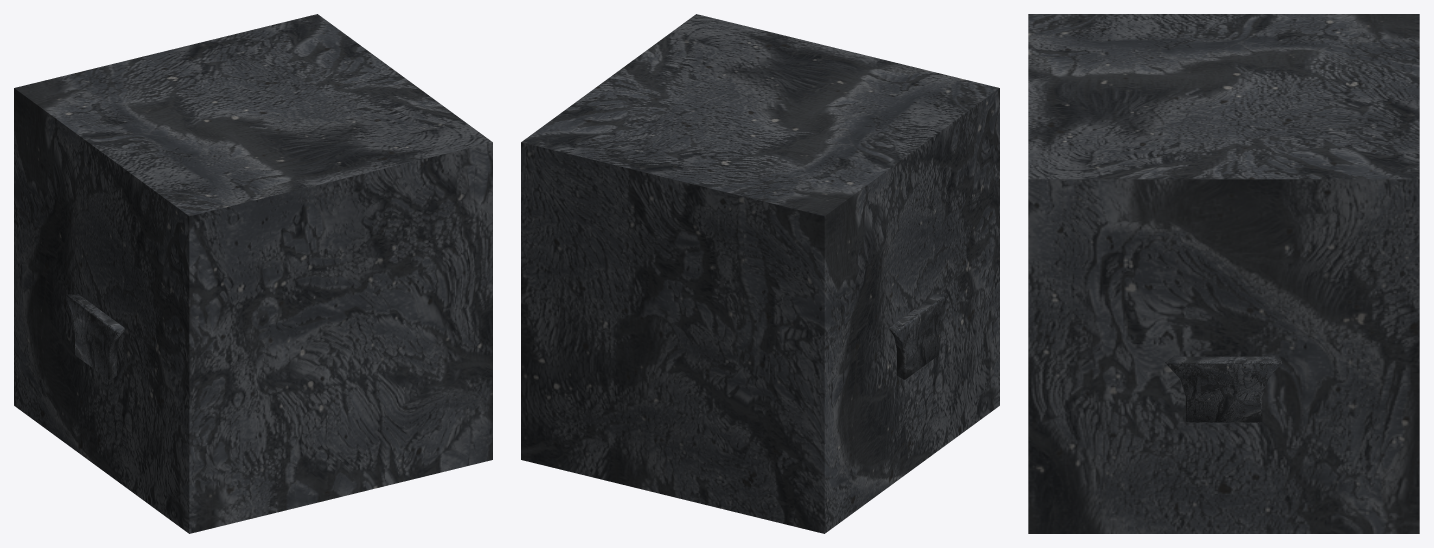
Rendered from Crypt.fbx.
The picture shows the model from 3 angles, left to right: view 1: azimuth 30°, elevation 25°; view 2: azimuth 150°, elevation 25°; view 3: azimuth 270°, elevation 25°; orthographic projection. The views are drawn at different scales.
Parts seen in each view (by area): view 1: Cube, Cube.001; view 2: Cube, Cube.001; view 3: Cube, Cube.001.
Boxes of the visible parts, x1,y1,x2,y2 form: Cube: (14,14,492,533); Cube.001: (66,294,124,379); Cube: (521,14,999,533); Cube.001: (889,294,947,379); Cube: (1028,14,1419,533); Cube.001: (1165,356,1282,422).
Size of the model in its own units: 40.55 by 40.55 by 43.25.
Materials: 1 (1 with a texture image).
